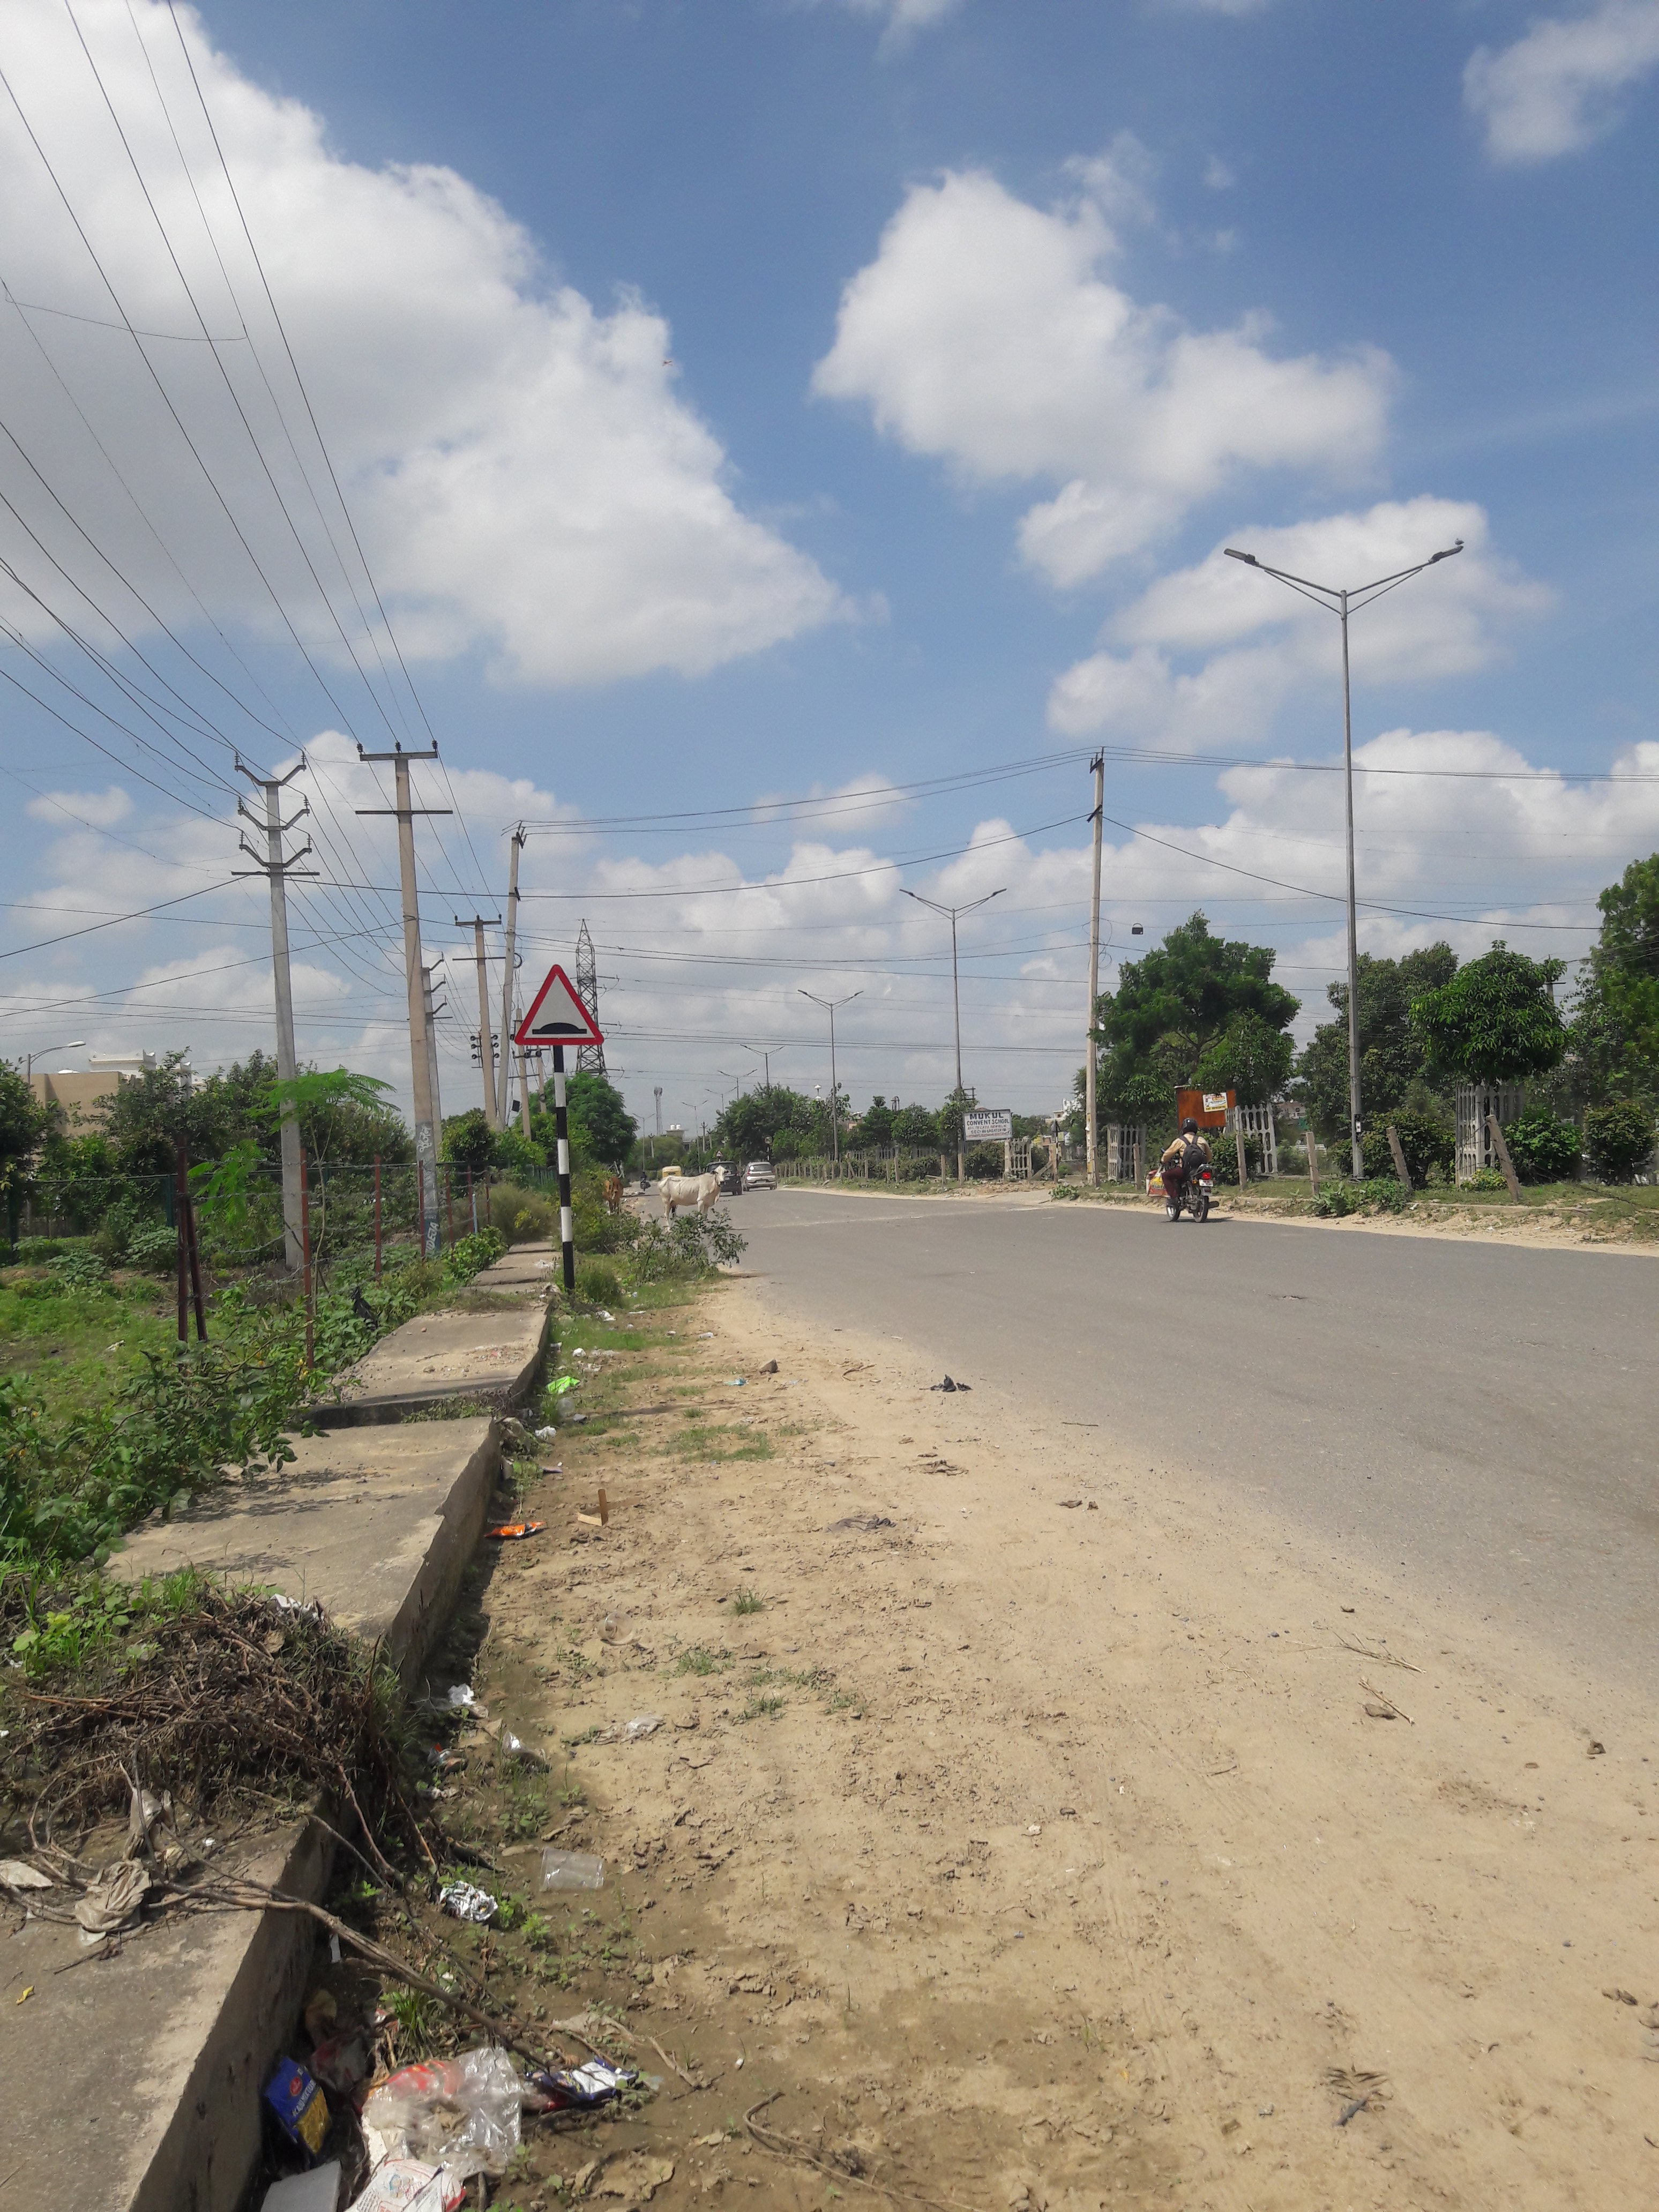traffic_sign: (514, 963, 605, 1047)
